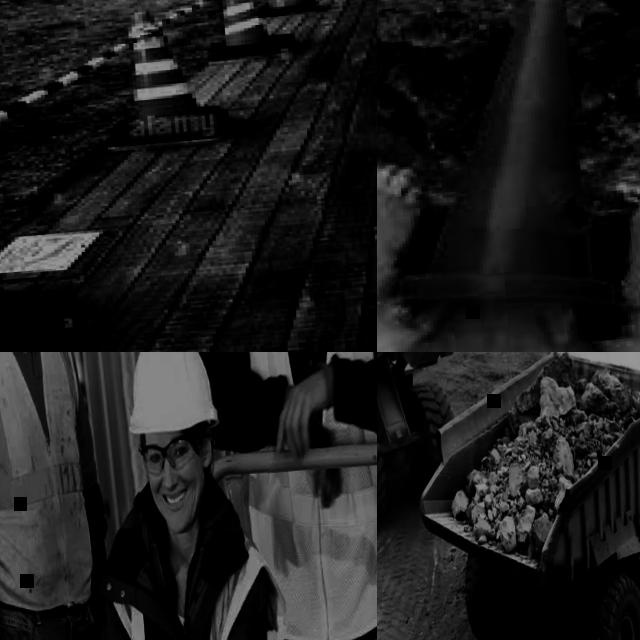Hardhat: (119, 352, 219, 440)
NO-Mask: (153, 478, 206, 534)
Person: (48, 352, 285, 640), (171, 352, 377, 640), (0, 352, 126, 640), (294, 352, 377, 640)
Safety Cone: (385, 0, 640, 335), (0, 112, 109, 352), (95, 7, 229, 154), (192, 0, 299, 67), (244, 0, 315, 16)
Safety Vest: (220, 352, 377, 640), (0, 352, 96, 620), (105, 531, 297, 640)
machinery: (401, 352, 640, 640), (377, 352, 534, 541)
